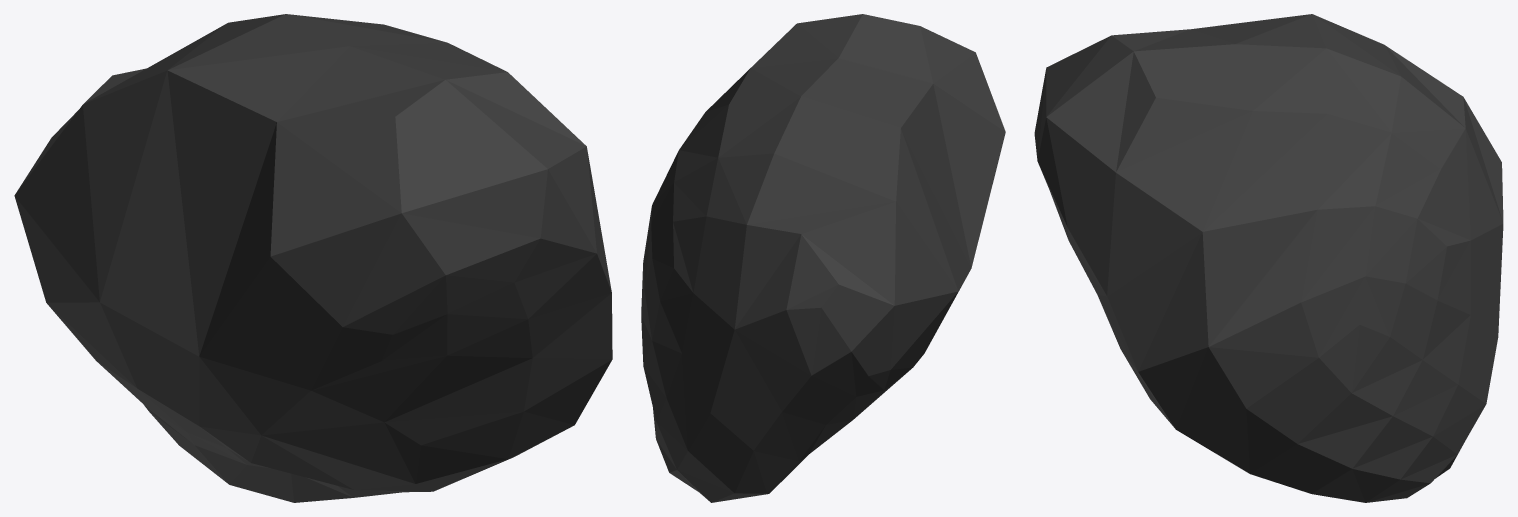
The model's file is LHL_femur2.glb.
The picture shows the model from 3 angles, left to right: view 1: azimuth 30°, elevation 25°; view 2: azimuth 150°, elevation 25°; view 3: azimuth 270°, elevation 25°; orthographic projection. The views are drawn at different scales.
Visible parts, largest first — view 1: LHL_femur2; view 2: LHL_femur2; view 3: LHL_femur2.
Part boxes in pixels (x1,y1,x2,y2): LHL_femur2: (14, 14, 612, 502); LHL_femur2: (641, 14, 1005, 502); LHL_femur2: (1034, 14, 1503, 502).
Bounding box in the file's own units: 7.69 × 8.91 × 8.87.
1 material, 1 textured.
